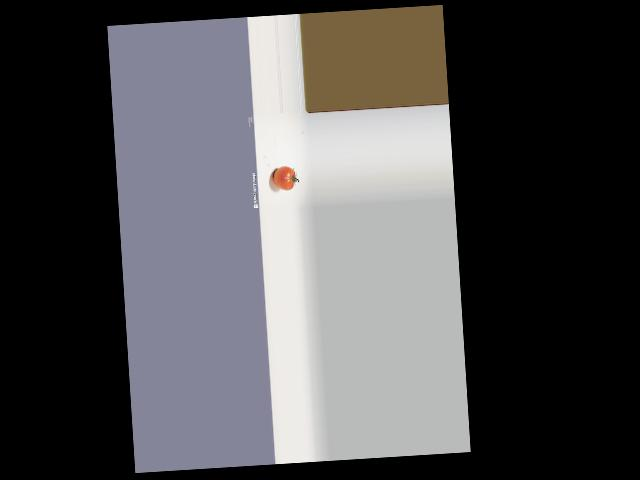tomato: (272, 165, 295, 190)
